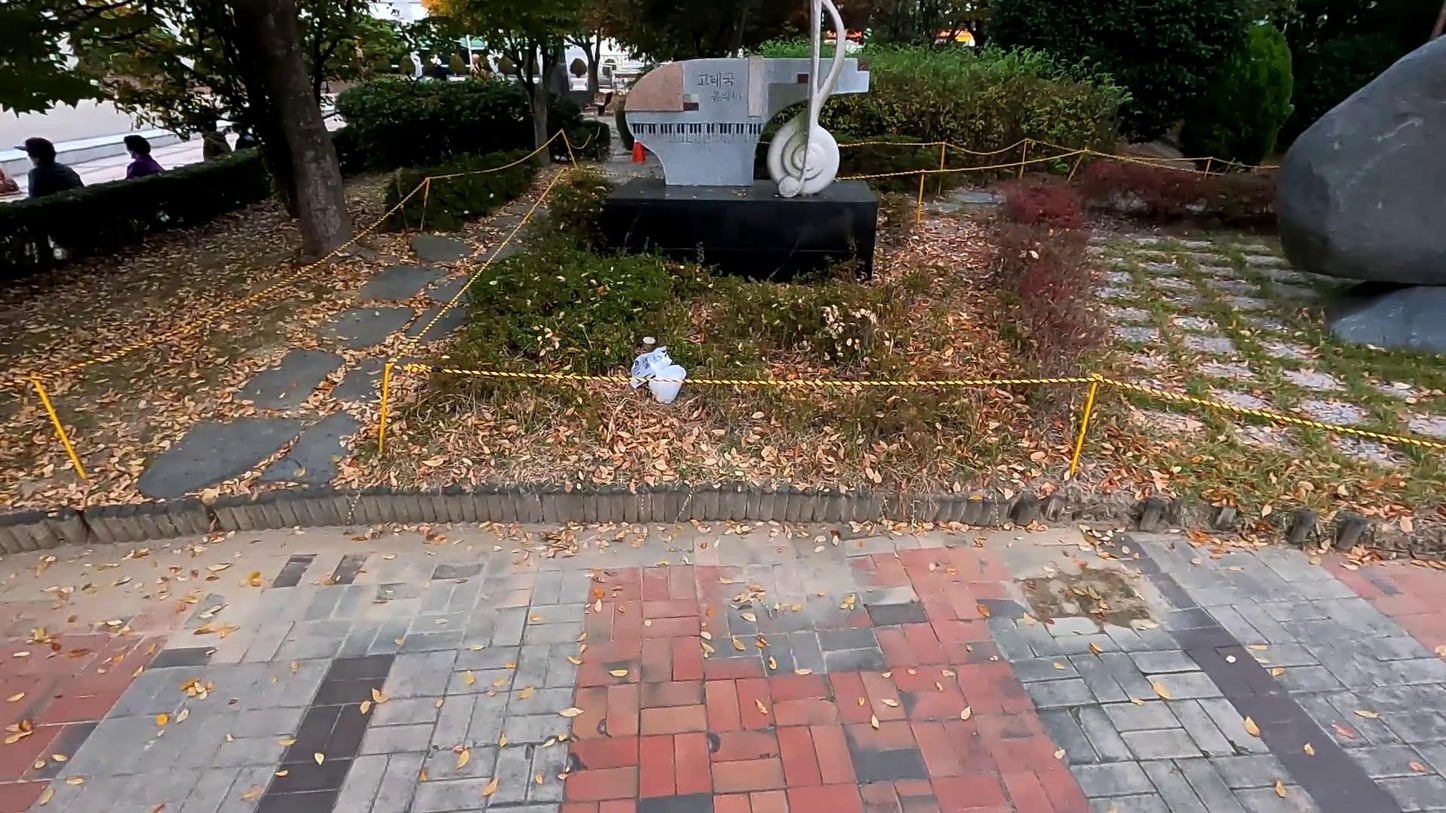person: (12, 135, 85, 201), (121, 134, 167, 180)
trash: (629, 345, 672, 388), (648, 364, 688, 403)
